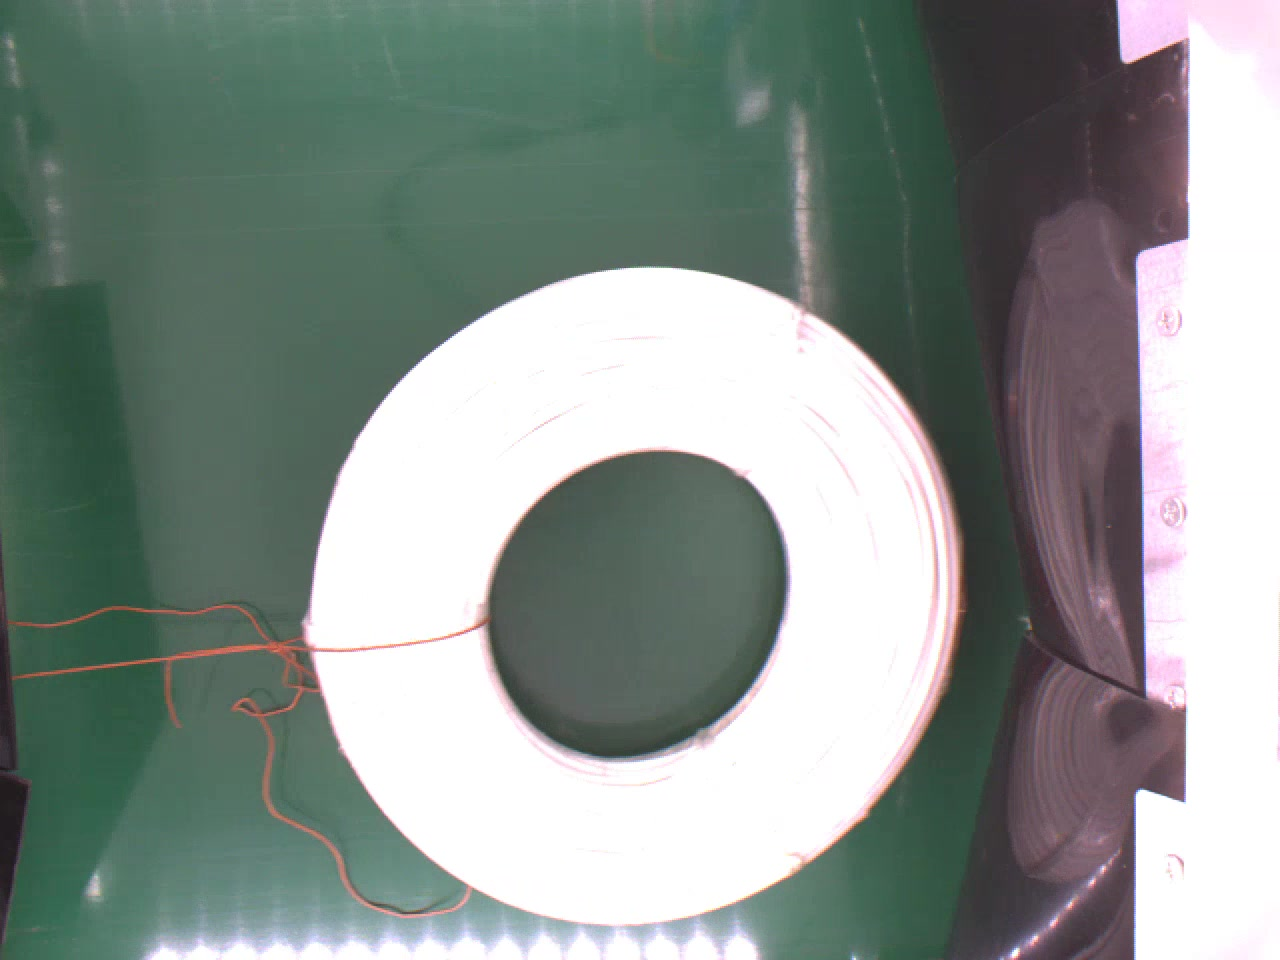white: (306, 256, 965, 924)
